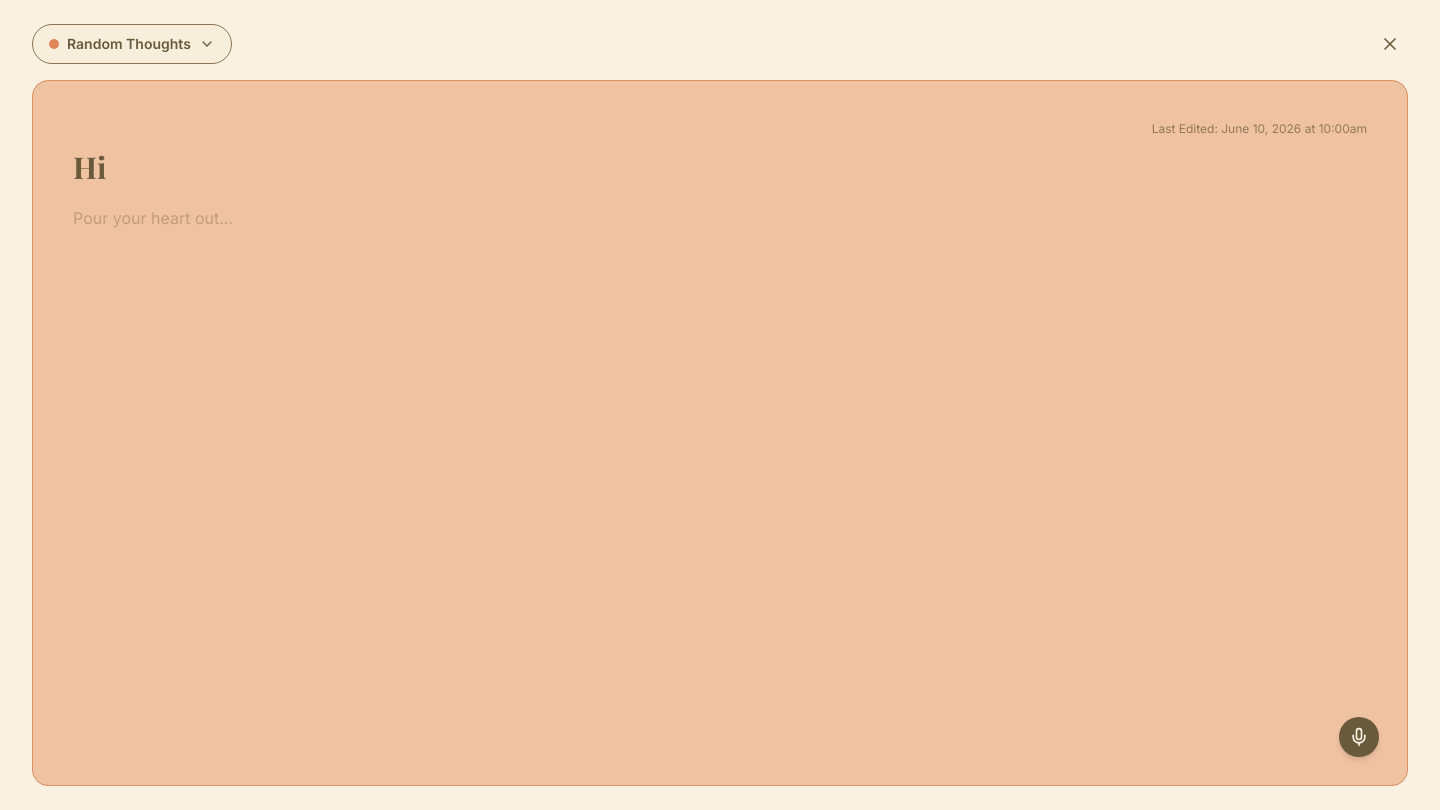
Test: NoteEditor autosave › keeps the editor open and surfaces an error when the final save fails
This screenshot has width=1440, height=810.
Type "must not be lost" into the text box with placeholder "Pour your heart out...".
click(720, 475); type("must not be lost")  # box [73, 205, 1367, 745]
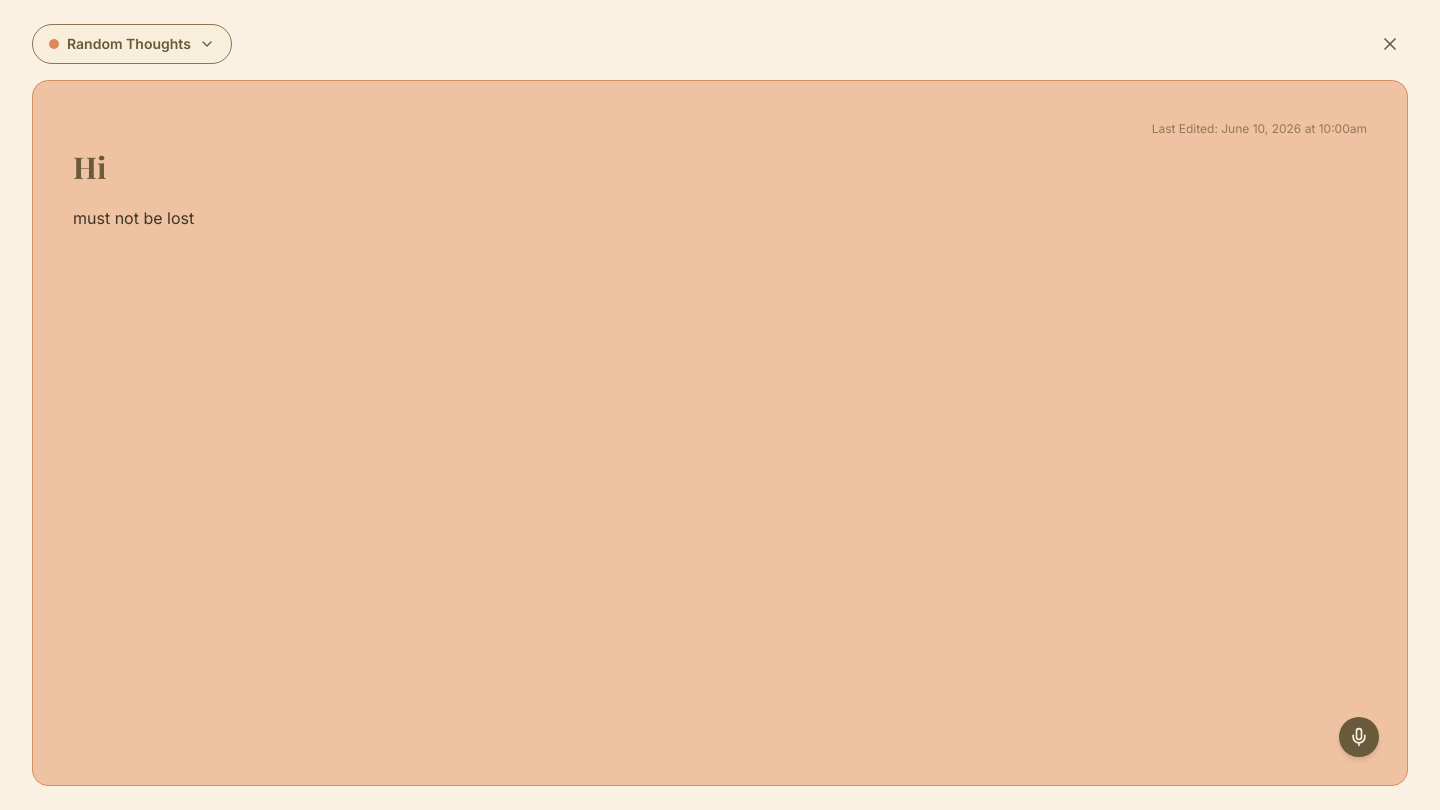
Click the button named "close editor".
click(1390, 44)  # box [1372, 26, 1408, 62]
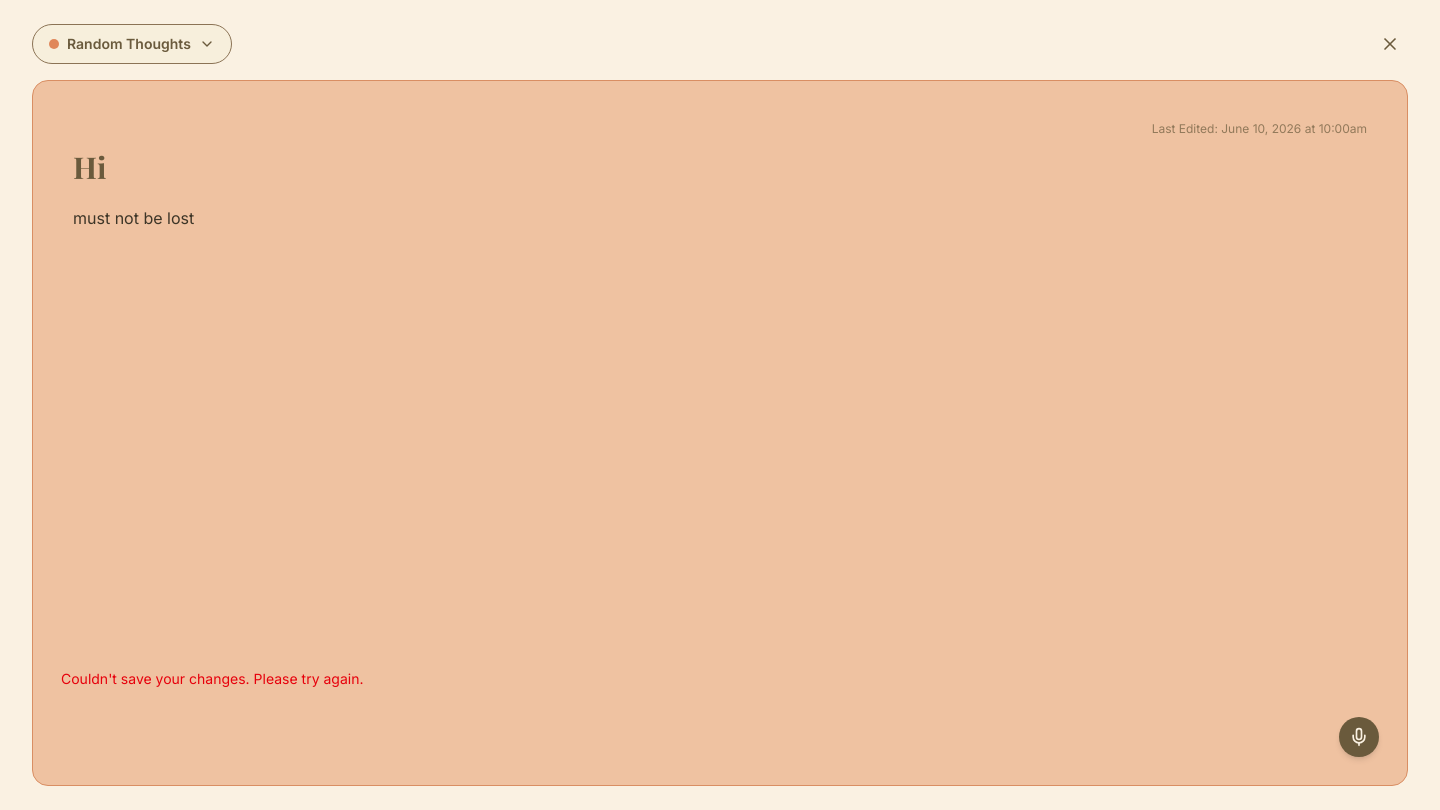
Now the message shows "Couldn't save", box [61, 670, 364, 687]
